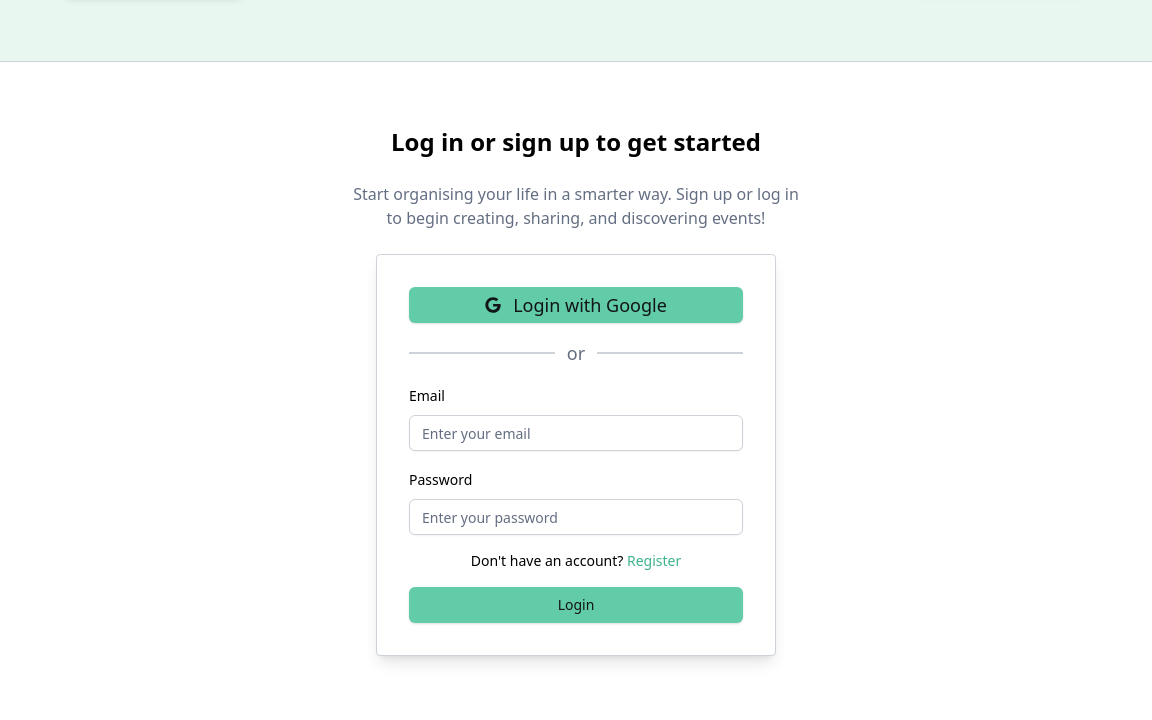
Test: Authentication Flow (End-to-End) › Registration Flow › shows password mismatch error when passwords don't match
(page scrolled)
Switch to registration form by clicking the Register text span
Click the text "Register" at (654, 561), box [627, 551, 681, 570]
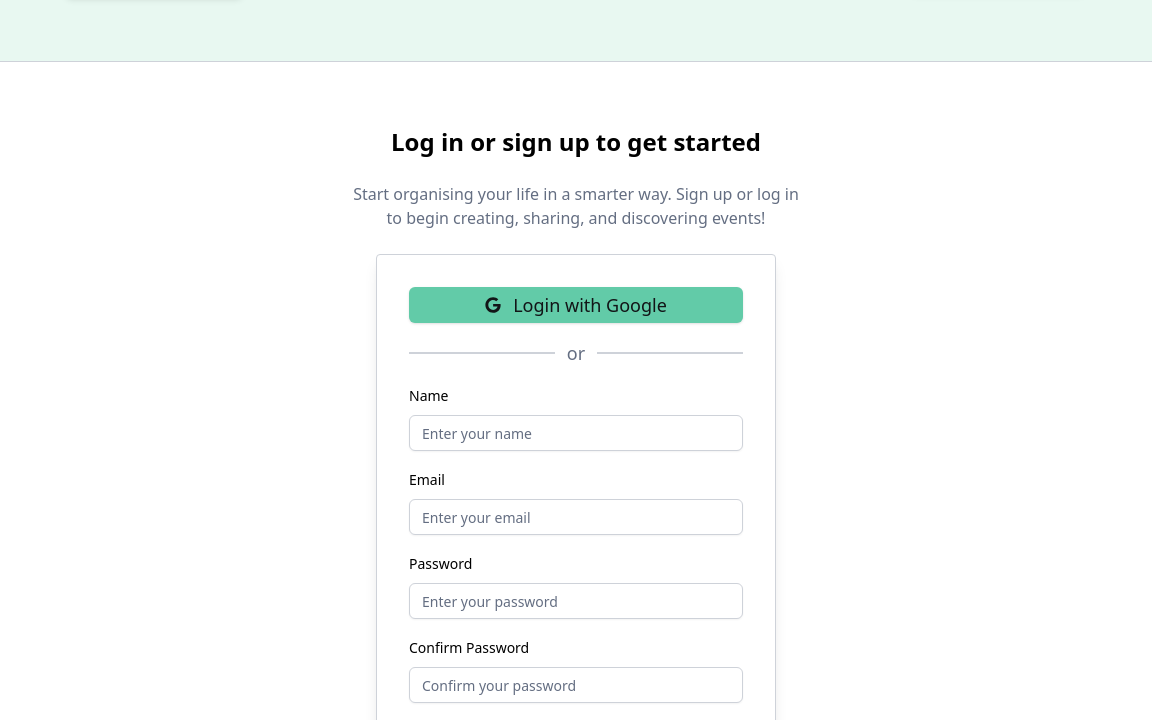
Fill in registration form with mismatched passwords
Type "New User" into the field labelled "Name" at (576, 433), box [409, 415, 743, 451]
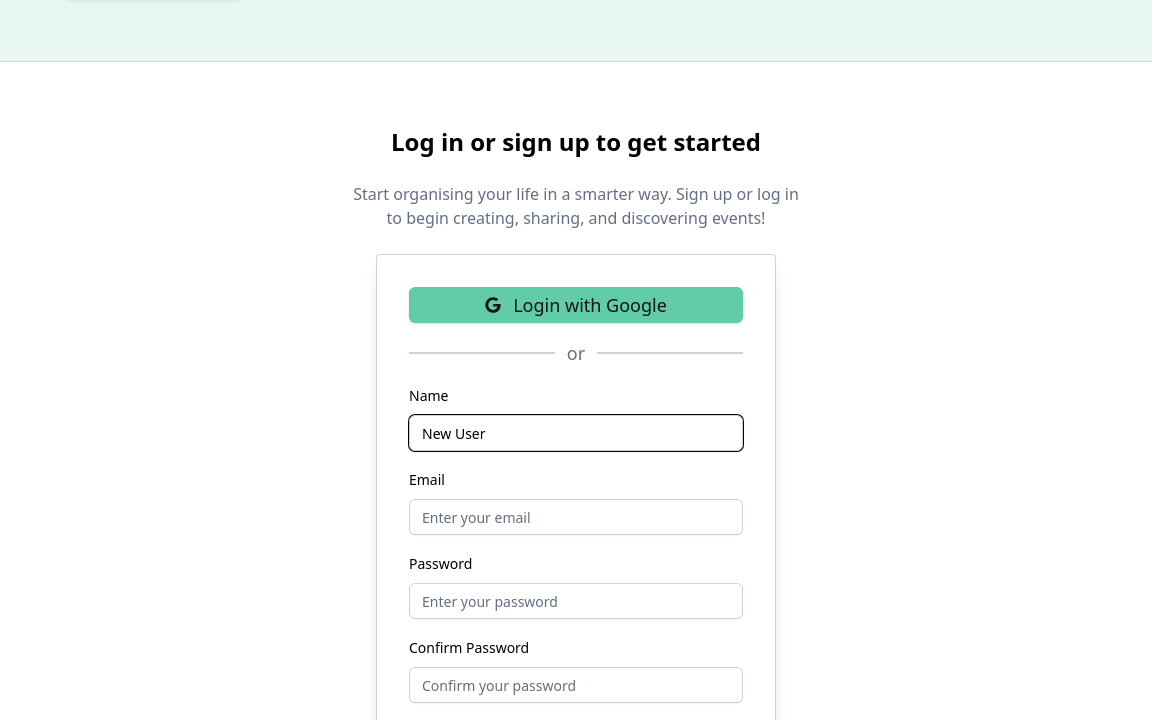
Type "newuser@example.com" into the field labelled "Email" at (576, 517), box [409, 499, 743, 535]
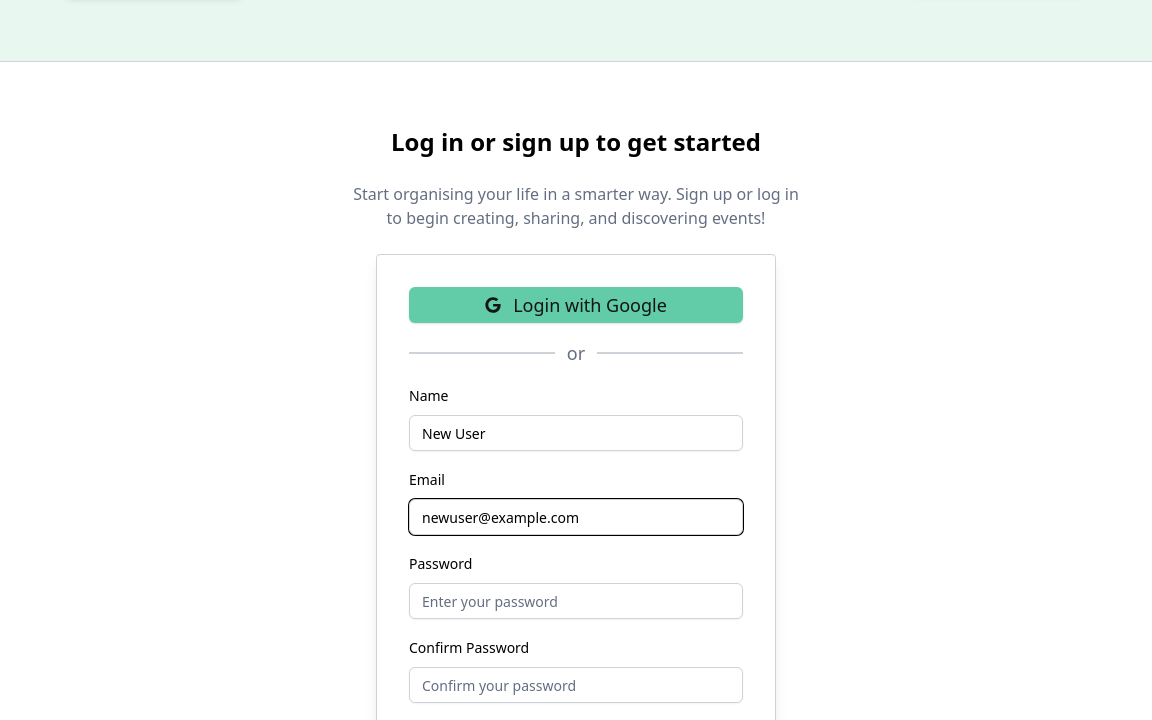
Type "password123" into the password field labelled "Password" at (576, 601), box [409, 583, 743, 619]
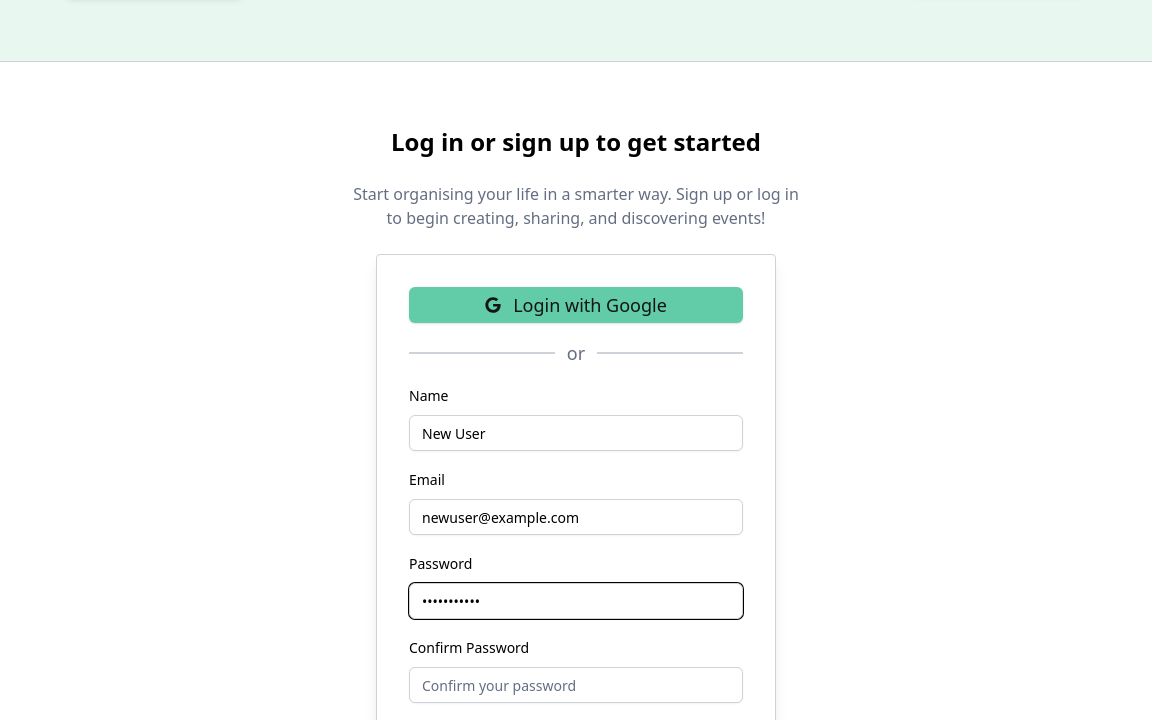
Type "different" into the password field labelled "Confirm Password" at (576, 685), box [409, 667, 743, 703]
(page scrolled)
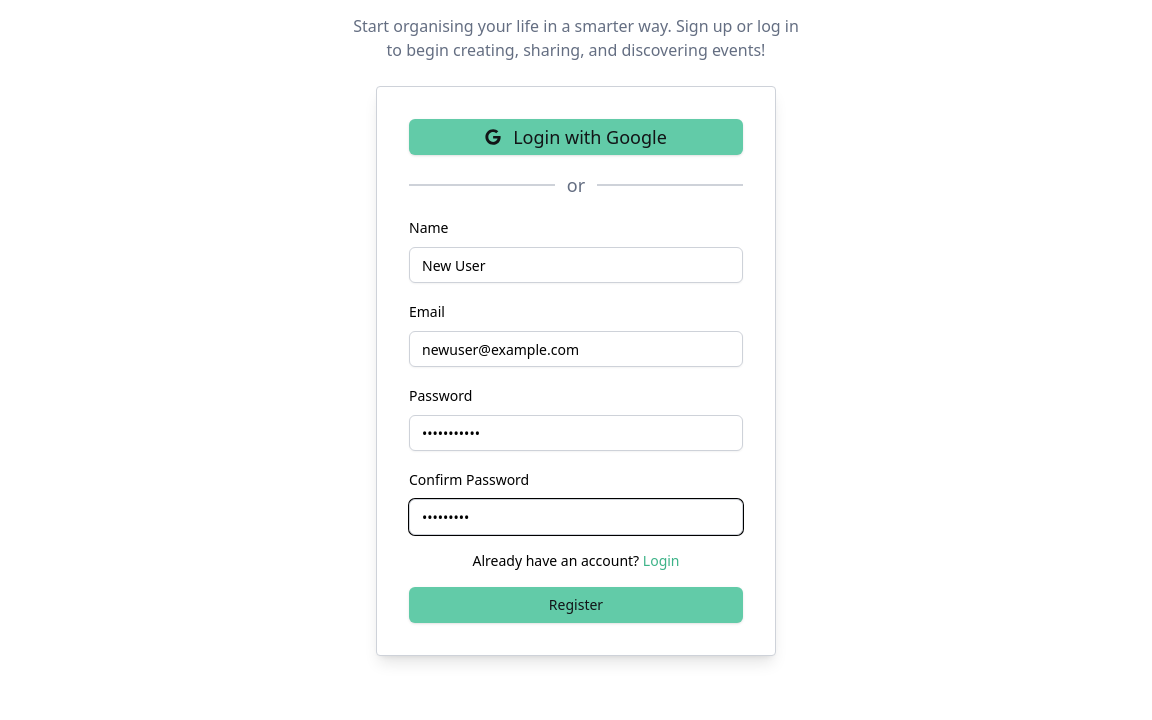
Submit the form
Click the button "Register" at (576, 605), box [409, 587, 743, 623]
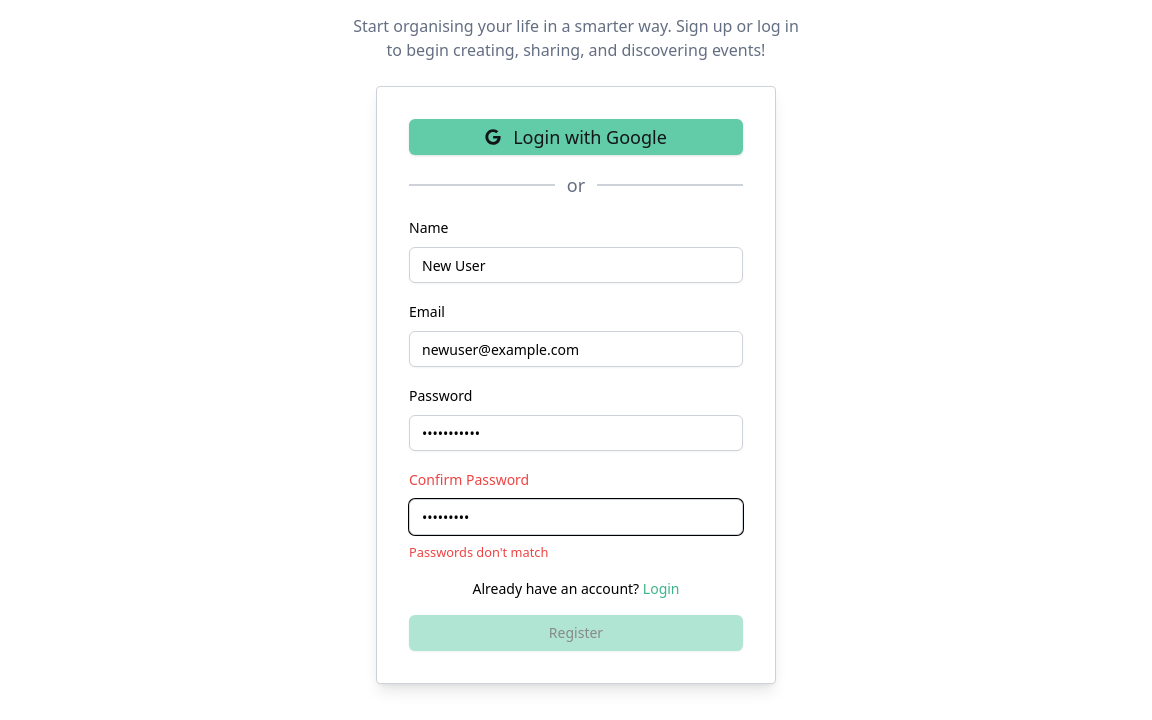
Result: the text "Passwords don't match" is shown at [409, 543, 548, 561]
